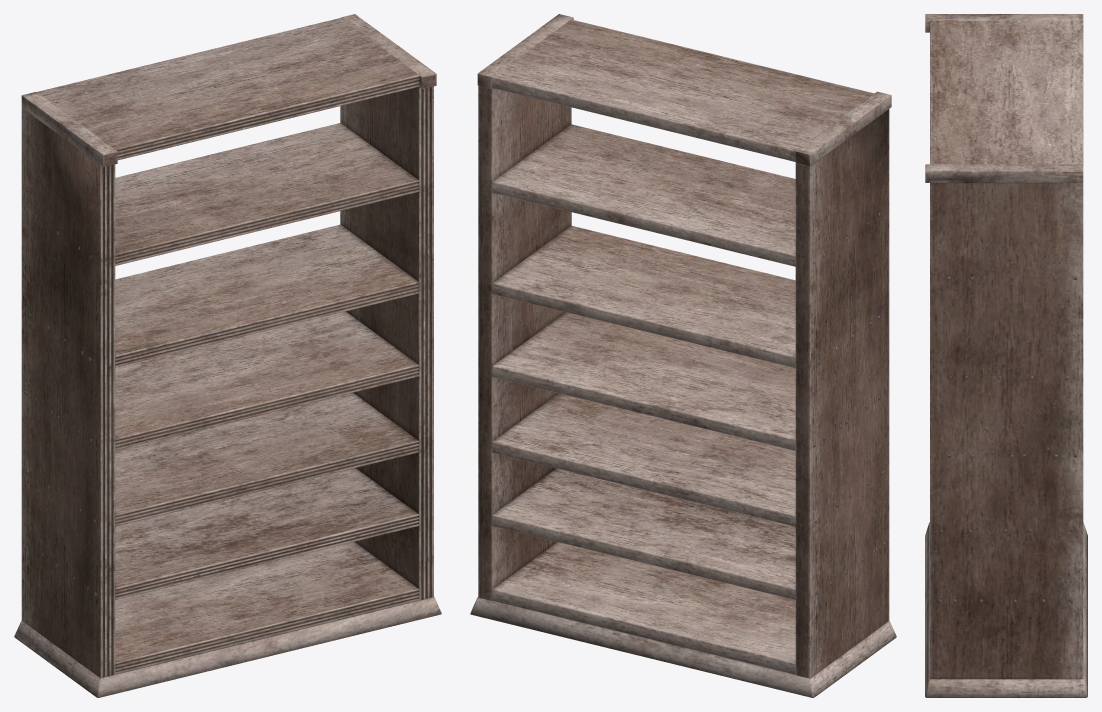
File: wooden_bookshelf.glb
The picture shows the model from 3 angles, left to right: view 1: azimuth 30°, elevation 25°; view 2: azimuth 150°, elevation 25°; view 3: azimuth 270°, elevation 25°; orthographic projection. The views are drawn at different scales.
Parts seen in each view (by area): view 1: wooden_bookshelf_worn; view 2: wooden_bookshelf_worn; view 3: wooden_bookshelf_worn.
Part boxes in pixels (x1,y1,x2,y2): wooden_bookshelf_worn: (14,14,441,697); wooden_bookshelf_worn: (470,14,896,697); wooden_bookshelf_worn: (925,14,1087,697).
Bounding box in the file's own units: 1.37 × 2.06 × 0.5813.
Materials: 1 (1 with a texture image).
